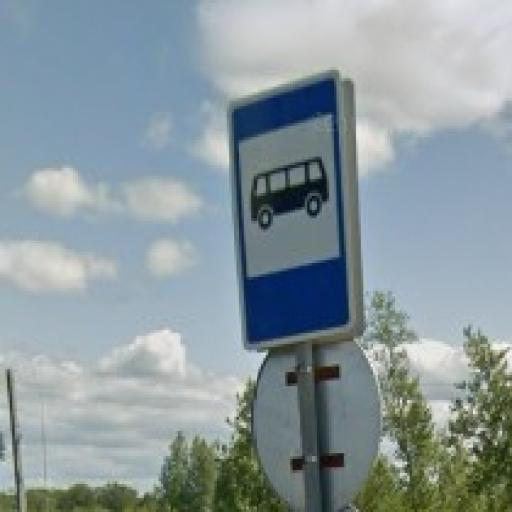traffic_sign: (228, 68, 355, 351)
